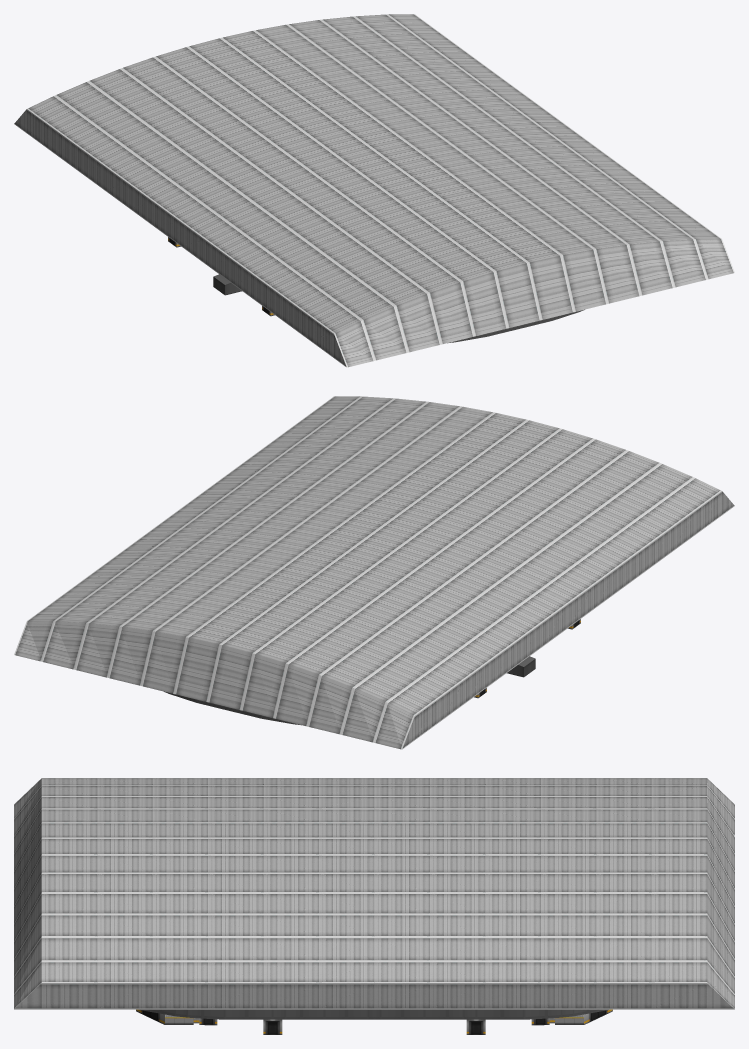
Rendered from ICE HOKEY 2.fbx.
The picture shows the model from 3 angles, top to bottom: view 1: azimuth 30°, elevation 25°; view 2: azimuth 150°, elevation 25°; view 3: azimuth 270°, elevation 25°; orthographic projection. The views are drawn at different scales.
Visible parts, largest first — view 1: boards_rear_01.002; view 2: boards_rear_01.002; view 3: boards_rear_01.002.
Part boxes in pixels (x1,y1,x2,y2): boards_rear_01.002: (14, 14, 734, 367); boards_rear_01.002: (14, 396, 734, 749); boards_rear_01.002: (14, 778, 734, 1034).
Size of the model in its own units: 393 by 101 by 584.
